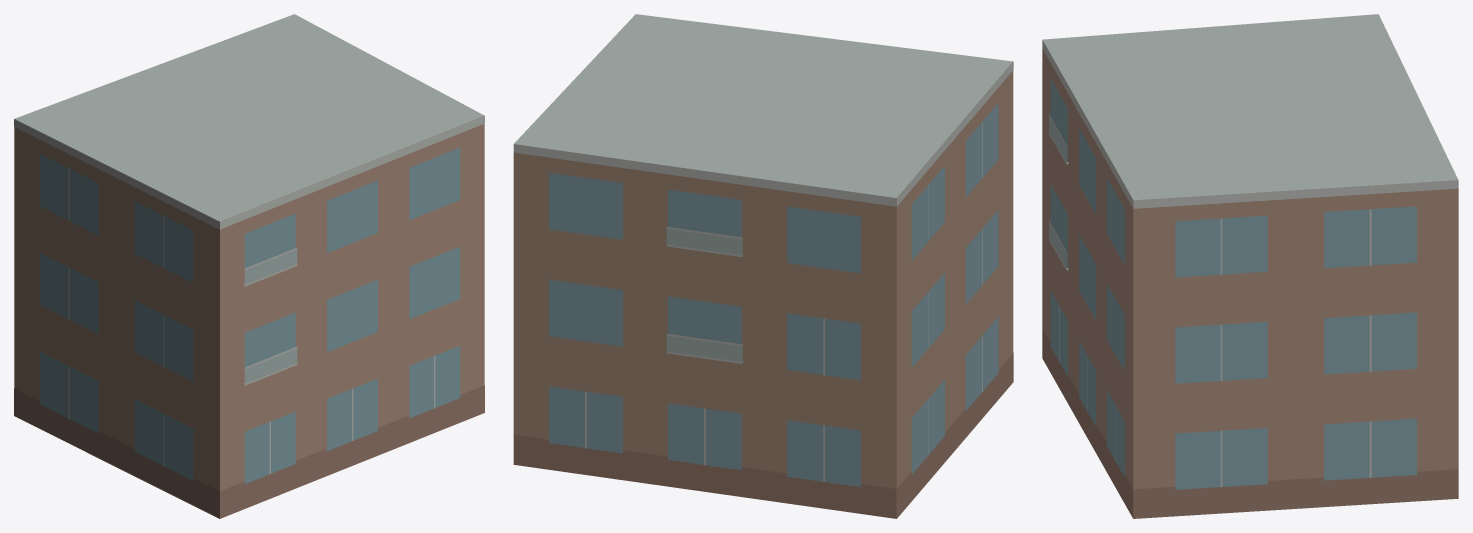
The model's file is survey-upis-32485488.glb.
The picture shows the model from 3 angles, left to right: view 1: azimuth 30°, elevation 25°; view 2: azimuth 150°, elevation 25°; view 3: azimuth 270°, elevation 25°; orthographic projection. The views are drawn at different scales.
Visible parts, largest first — view 1: survey-upis-32485488.tmp; view 2: survey-upis-32485488.tmp; view 3: survey-upis-32485488.tmp.
Boxes of the visible parts, <box> form: survey-upis-32485488.tmp: <box>14,14,484,518</box>; survey-upis-32485488.tmp: <box>513,14,1013,518</box>; survey-upis-32485488.tmp: <box>1042,14,1458,518</box>.
Size of the model in its own units: 11.49 by 9.15 by 10.85.
